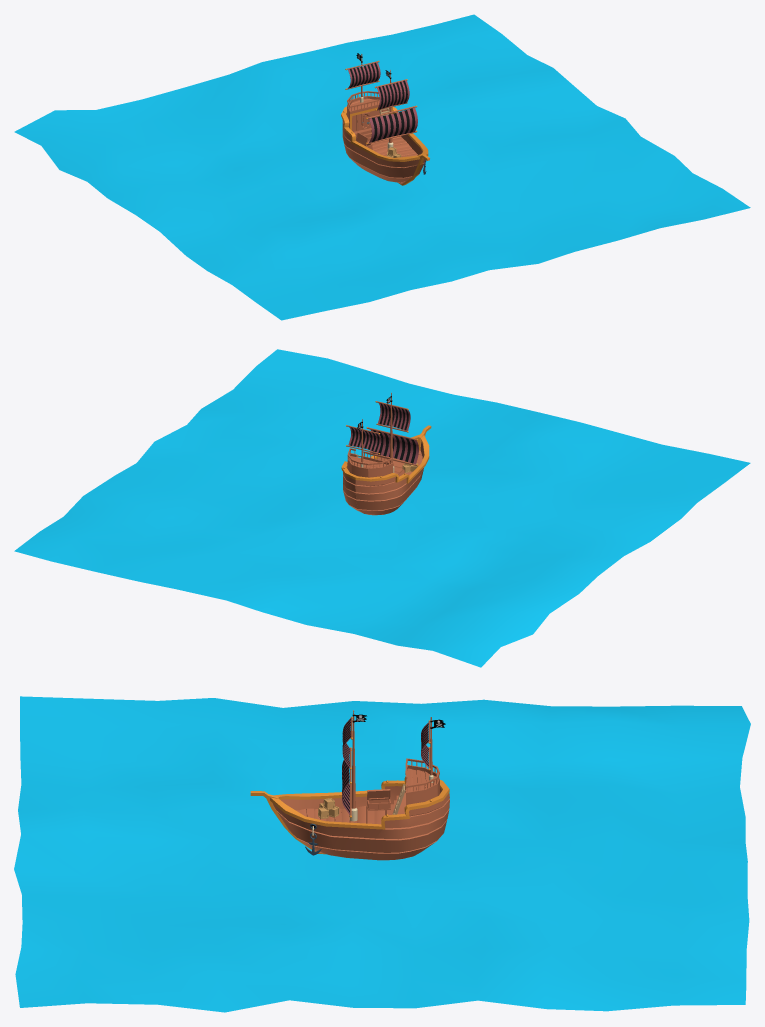
File: pirata.glb
3 renders of one model, top to bottom at view 1: azimuth 30°, elevation 25°; view 2: azimuth 150°, elevation 25°; view 3: azimuth 270°, elevation 25°, orthographic. The views are drawn at different scales.
Parts seen in each view (by area): view 1: Plane, shipbody, Cylinder.022, shiprim, shipbody.002, Cylinder.006, Cylinder.010, shipbody.003; view 2: Plane, shipbody, Cylinder.022, shipbody.002, shiprim, Cylinder.006, Cylinder.010; view 3: Plane, shipbody, shiprim, shipbody.002, shipbody.003.
Boxes of the visible parts, bbox=[...] form: Plane: bbox=[14, 14, 750, 320]; shipbody: bbox=[342, 115, 425, 184]; Cylinder.022: bbox=[369, 107, 417, 142]; shiprim: bbox=[341, 106, 428, 161]; shipbody.002: bbox=[347, 96, 392, 131]; Cylinder.006: bbox=[376, 80, 409, 110]; Cylinder.010: bbox=[348, 62, 380, 88]; shipbody.003: bbox=[368, 136, 417, 166]; Plane: bbox=[14, 349, 750, 667]; shipbody: bbox=[343, 442, 424, 515]; Cylinder.022: bbox=[370, 429, 418, 464]; shipbody.002: bbox=[347, 453, 393, 477]; shiprim: bbox=[341, 434, 429, 483]; Cylinder.006: bbox=[378, 403, 410, 430]; Cylinder.010: bbox=[348, 427, 381, 452]; Plane: bbox=[14, 696, 750, 1012]; shipbody: bbox=[272, 786, 449, 860]; shiprim: bbox=[270, 776, 449, 829]; shipbody.002: bbox=[406, 765, 439, 805]; shipbody.003: bbox=[296, 804, 393, 824].
Size of the model in its own units: 70.11 by 16.16 by 70.19.
13 materials, 1 textured.
